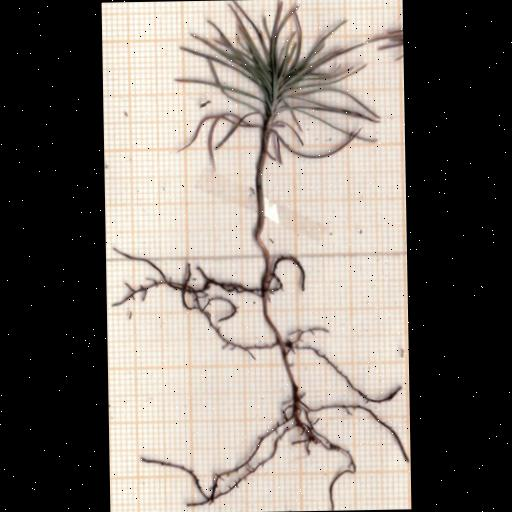flowerCedr: (178, 0, 385, 159)
rootCedr: (114, 249, 401, 510)
stemCedr: (252, 129, 271, 274)
